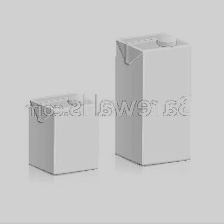carton: (111, 28, 197, 169), (23, 85, 103, 177)
